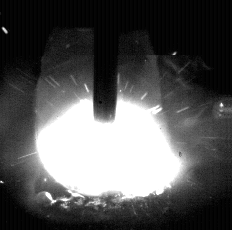arame: (94, 0, 118, 123)
poca: (35, 0, 170, 230)
